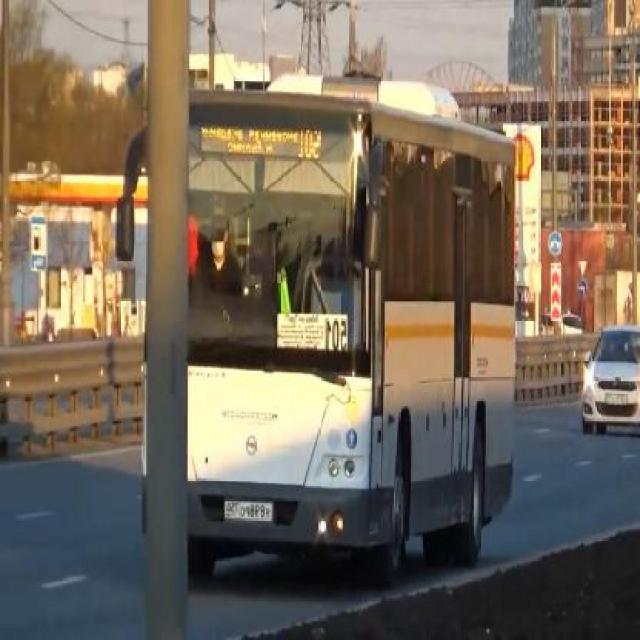bus: (118, 72, 518, 583)
